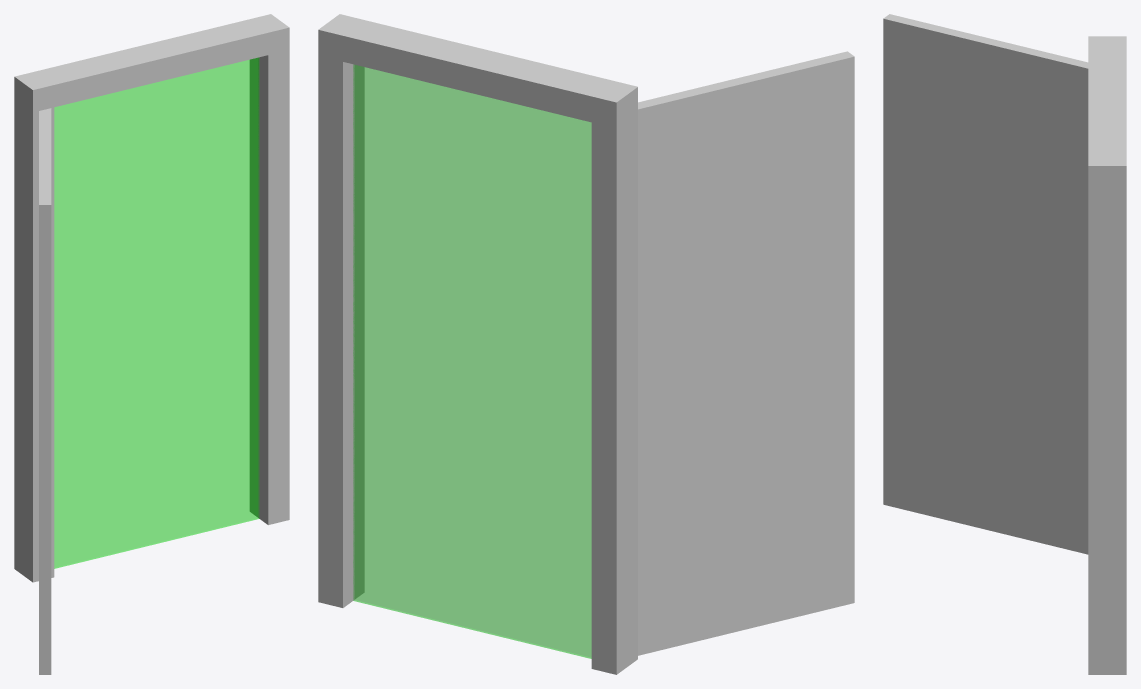
Rendered from Portal.fbx.
3 views of the same model, side by side, from view 1: azimuth 30°, elevation 25°; view 2: azimuth 150°, elevation 25°; view 3: azimuth 270°, elevation 25° (orthographic). The views are drawn at different scales.
Parts seen in each view (by area): view 1: Portal_Trigger, Door_Frame, Door_Leaf; view 2: Portal_Trigger, Door_Leaf, Door_Frame; view 3: Door_Leaf, Door_Frame.
Boxes of the visible parts, x1=… form: Portal_Trigger: x1=54, y1=57, x2=259, y2=568; Door_Frame: x1=14, y1=14, x2=289, y2=582; Door_Leaf: x1=39, y1=108, x2=51, y2=674; Portal_Trigger: x1=353, y1=65, x2=591, y2=658; Door_Leaf: x1=638, y1=51, x2=854, y2=655; Door_Frame: x1=318, y1=14, x2=637, y2=674; Door_Leaf: x1=883, y1=14, x2=1088, y2=554; Door_Frame: x1=1088, y1=36, x2=1126, y2=674.
Bounding box in the file's own units: 162 × 220 × 95.35.
